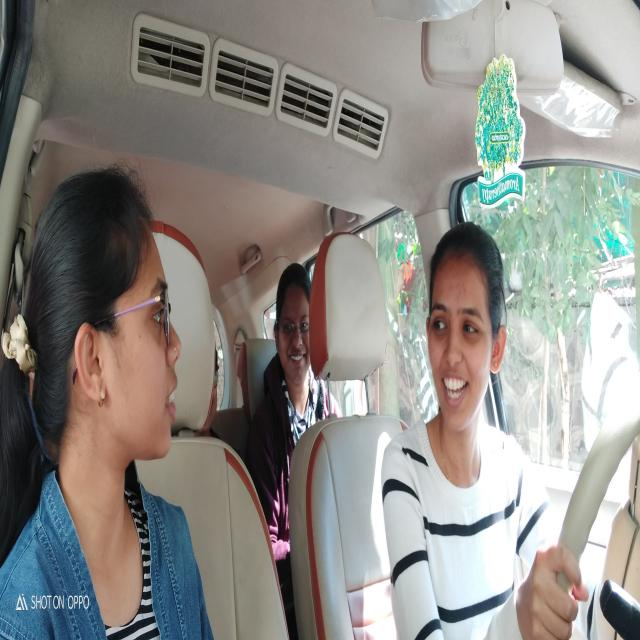LeftRight: (422, 216, 510, 452)
person: (35, 163, 184, 481), (272, 256, 316, 395)
talking: (162, 368, 182, 430), (442, 369, 470, 406)
